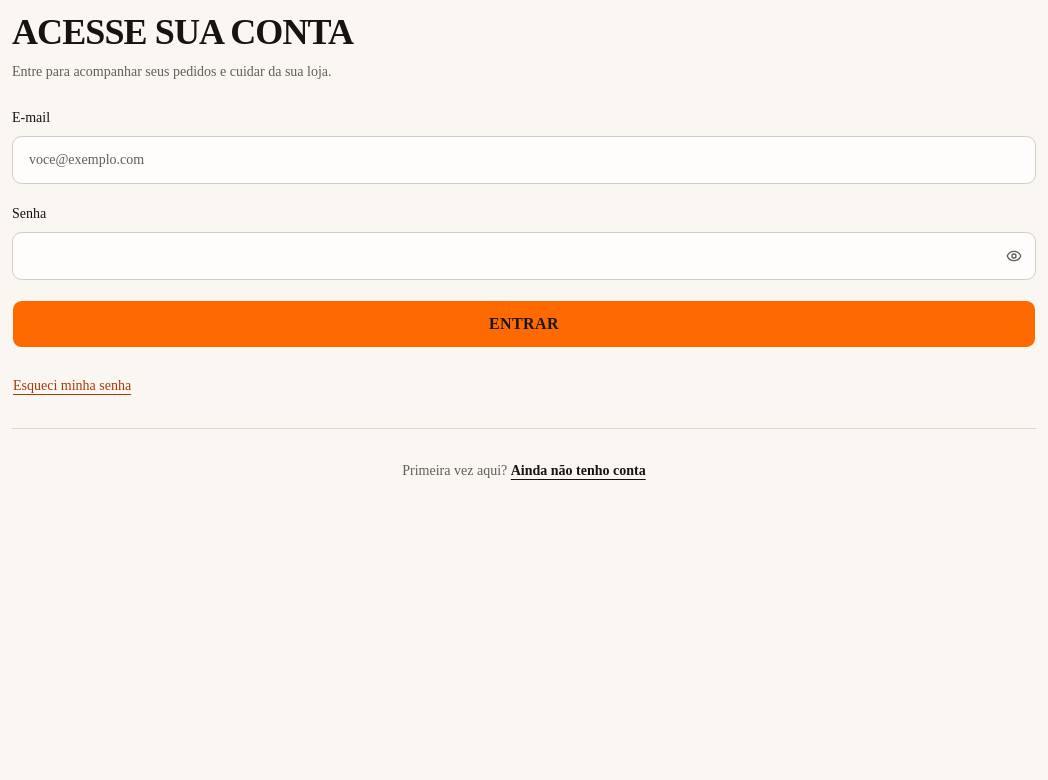
Test: recovers the login button after a network rejection
This screenshot has width=1048, height=780.
Type "buyer@example.test" into the field labelled "E-mail".
click(524, 160); type("buyer@example.test")  # box [12,136,1036,184]
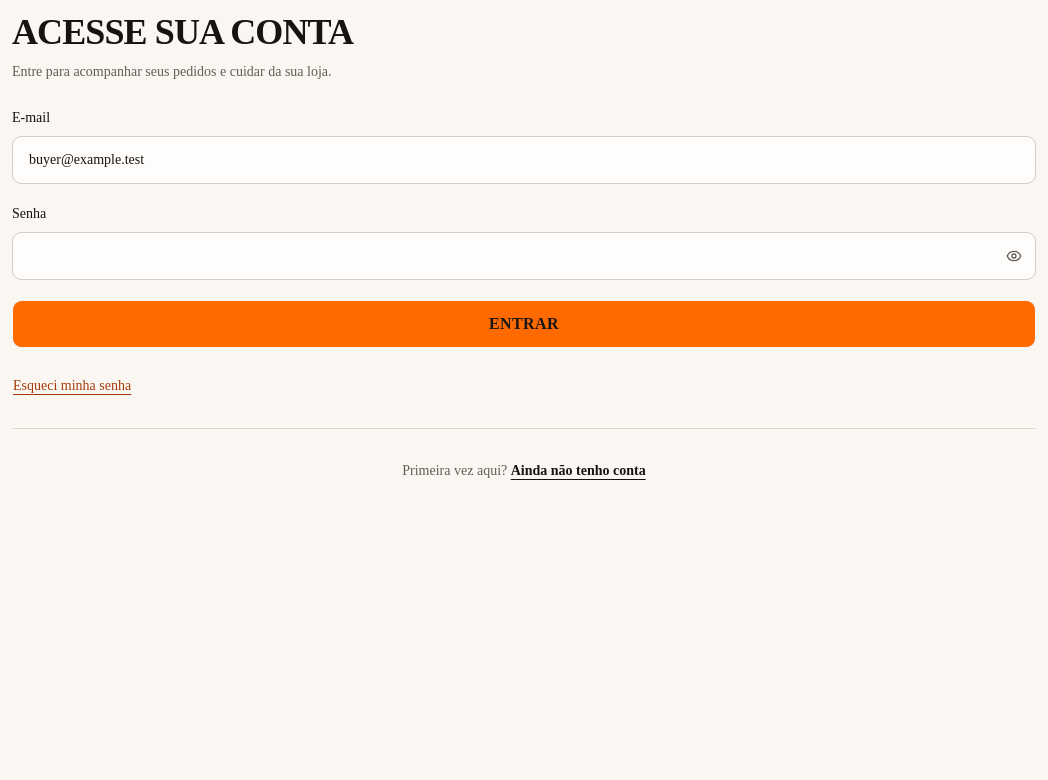
Type "test-password" into the password field labelled "Senha".
click(524, 256); type("test-password")  # box [12,232,1036,280]
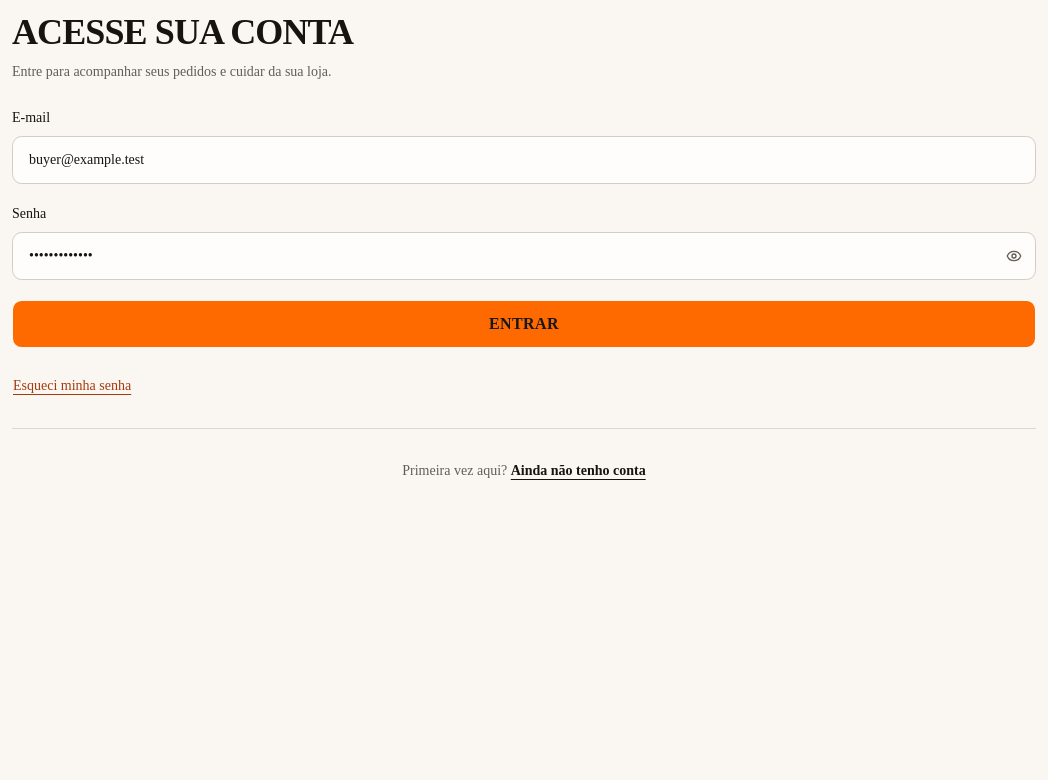
Submit the form named "Entrar"
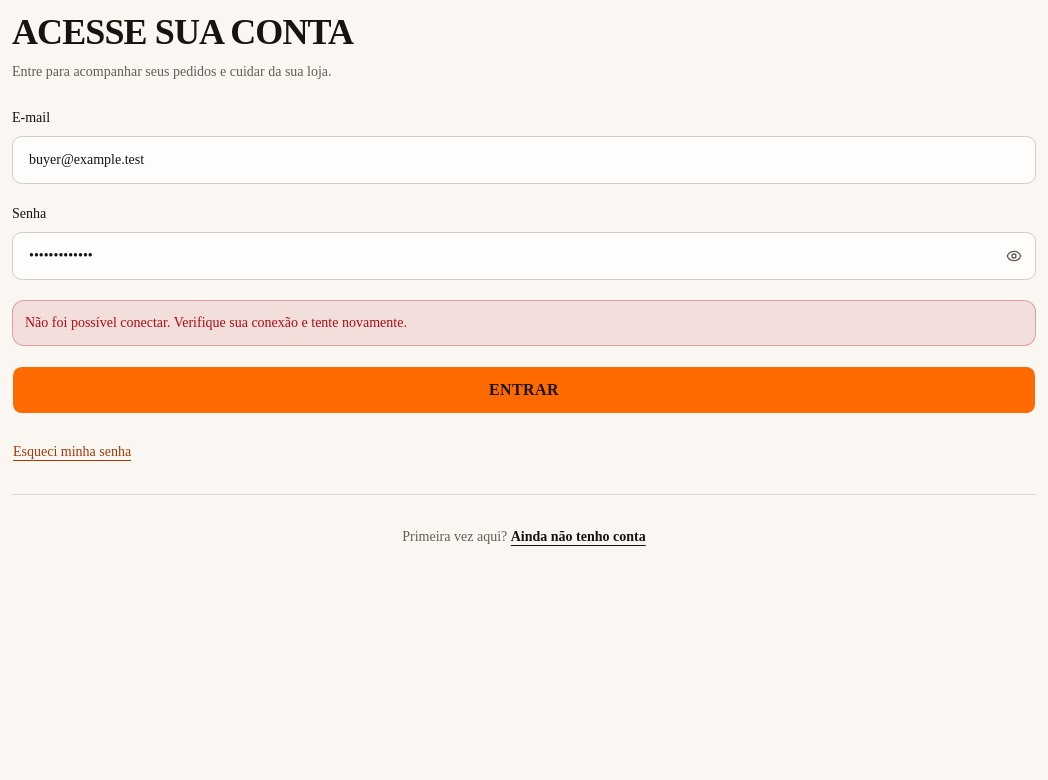
Expected: the button "Entrar" is enabled, [12,366,1036,414]
Expected: the message shows "conexão", [25,315,407,330]
